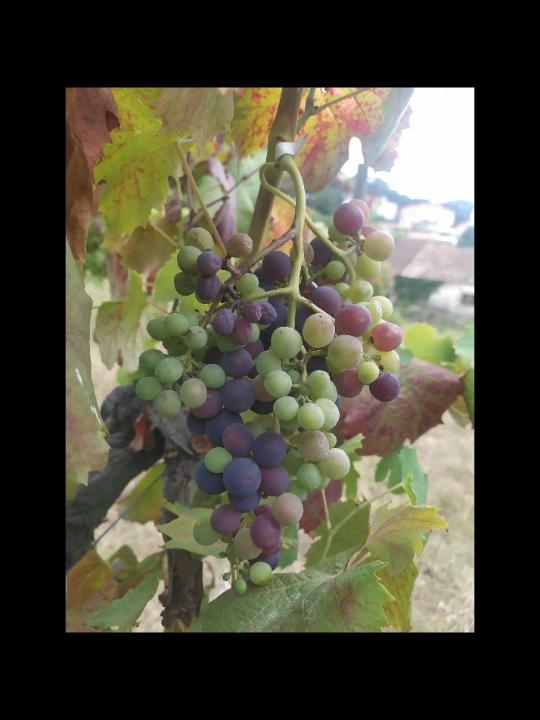grape: (131, 195, 405, 598)
